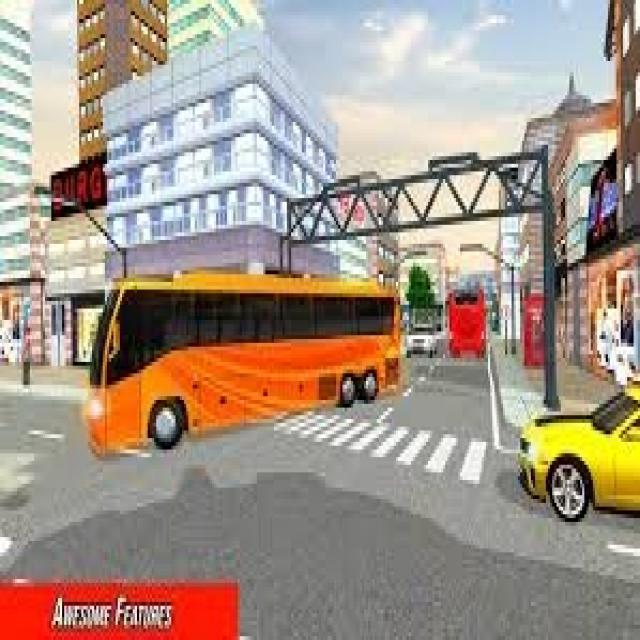bus: (80, 274, 401, 462), (442, 267, 490, 374)
